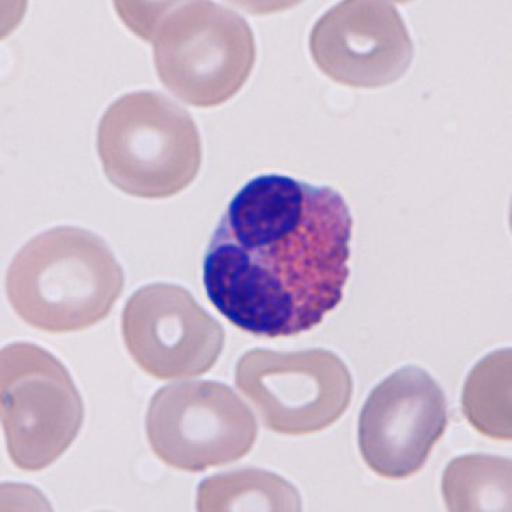RBC: (5, 222, 126, 334), (94, 87, 204, 202), (232, 344, 356, 439), (151, 0, 259, 108), (143, 375, 260, 474), (355, 362, 449, 483), (0, 340, 85, 473), (118, 280, 226, 382), (306, 0, 416, 90), (2, 378, 86, 473), (2, 339, 83, 426), (114, 0, 250, 49), (192, 463, 306, 512), (460, 341, 512, 444), (110, 0, 222, 43), (440, 449, 512, 512), (107, 0, 223, 22), (204, 1, 329, 17), (2, 477, 58, 512), (0, 0, 31, 46)
WBC: (198, 172, 356, 340)
